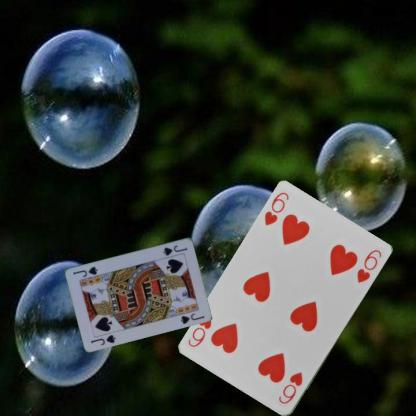6h: (262, 189, 290, 228), (275, 369, 304, 406)
Js: (160, 242, 188, 260), (88, 332, 117, 346)
